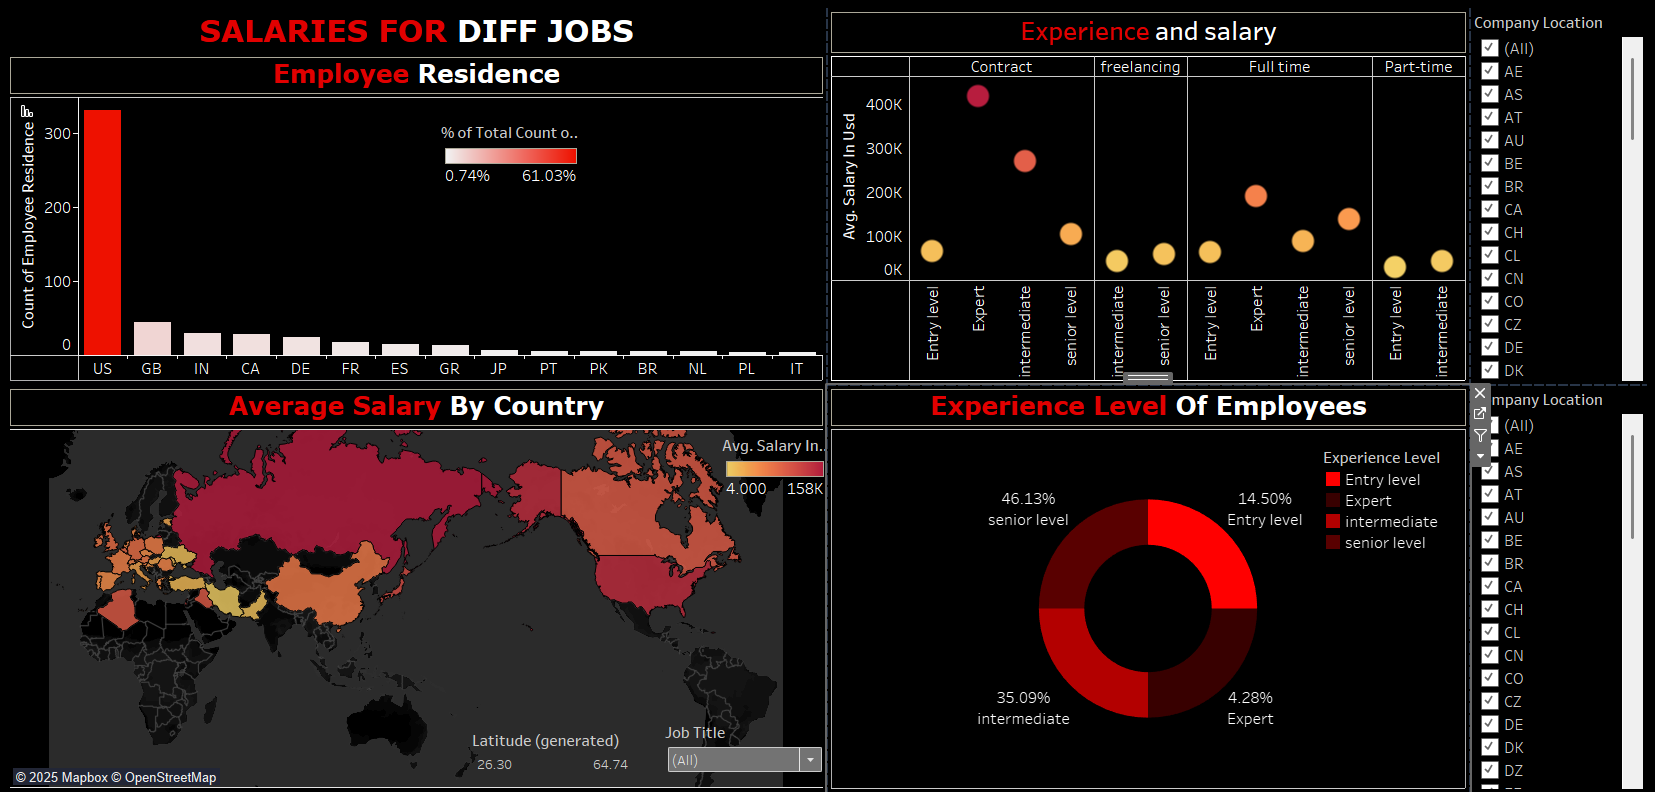

The page's visual inventory and layout, read from the dashboard file:
{"tool":"tableau","page":{"name":"Dashboard 1","canvas":[1000,1000],"units":"permille","ordinal":0},"visuals":[{"type":"title","box":[4.8,10,495.2,56.2]},{"type":"worksheet","title":"Experience and salary","mark":"Shape","rows":["salary_in_usd"],"cols":["employment_type","experience_level"],"box":[500,10,388.1,470.6]},{"type":"filter","title":"Experience and salary","param":"[federated.0tn9gm1117mq7s182l50x195mamd].[none:company_location:nk]","box":[888.1,10,107.1,470.6]},{"type":"worksheet","title":"Residence","mark":"Automatic","rows":["employee_residence"],"cols":["employee_residence"],"box":[4.8,66.2,495.2,415.1]},{"type":"legend","title":"Residence","param":"[federated.0tn9gm1117mq7s182l50x195mamd].[pcto:cnt:employee_residence:qk]","box":[267.4,152.3,84.5,109.9]},{"type":"worksheet","title":"Expereince level","mark":"Pie","rows":["Calculation_184929121238183937","Calculation_184929121238183937"],"box":[500,480.6,388.1,509.4]},{"type":"filter","title":"Expereince level","param":"[federated.0tn9gm1117mq7s182l50x195mamd].[none:company_location:nk]","box":[888.1,480.6,107.1,509.4]},{"type":"worksheet","title":"Avg salary by country","mark":"Automatic","box":[4.8,481.3,495.2,508.7]},{"type":"legend","title":"Avg salary by country","param":"[federated.0tn9gm1117mq7s182l50x195mamd].[avg:salary_in_usd:qk]","box":[436.9,543.1,64,73.7]},{"type":"legend","title":"Expereince level","param":"[federated.0tn9gm1117mq7s182l50x195mamd].[none:experience_level:nk]","box":[799.6,558.1,74.2,136.1]},{"type":"filter","title":"Avg salary by country","param":"[federated.0tn9gm1117mq7s182l50x195mamd].[none:job_title:nk]","box":[402.5,901.4,96.6,67.4]},{"type":"filter","title":"Avg salary by country","param":"[federated.0tn9gm1117mq7s182l50x195mamd].[Latitude (generated)]","box":[286.1,911.4,98.4,58.7]}]}

Visuals, with their boxes on the dashboard's canvas, which has no fixed pixel size, in thousandths of its width and height (x1, y1, x2, y2). These are canvas units, not pixel positions in the 1655x792 screenshot, which may show the page scaled, cropped or inside an application window:
title: [5,10,500,66]
"Experience and salary" worksheet (Shape marks): [500,10,888,481]
"Experience and salary" filter: [888,10,995,481]
"Residence" worksheet: [5,66,500,481]
"Residence" legend: [267,152,352,262]
"Expereince level" worksheet (Pie marks): [500,481,888,990]
"Expereince level" filter: [888,481,995,990]
"Avg salary by country" worksheet: [5,481,500,990]
"Avg salary by country" legend: [437,543,501,617]
"Expereince level" legend: [800,558,874,694]
"Avg salary by country" filter: [402,901,499,969]
"Avg salary by country" filter: [286,911,384,970]
